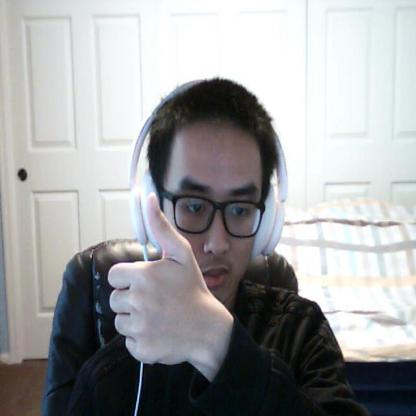Thumbs-Up: (106, 192, 209, 371)
